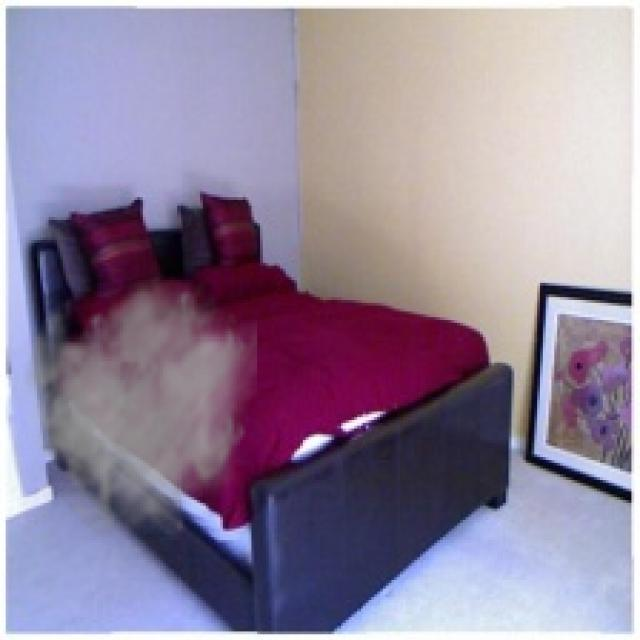Smoke: (9, 272, 258, 542)
